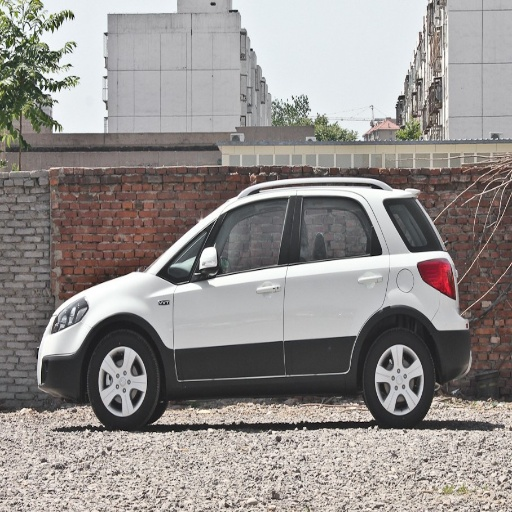back_bumper: (431, 312, 472, 379)
back_glass: (386, 199, 436, 249)
back_left_door: (283, 189, 389, 376)
front_left_door: (173, 190, 295, 381)
